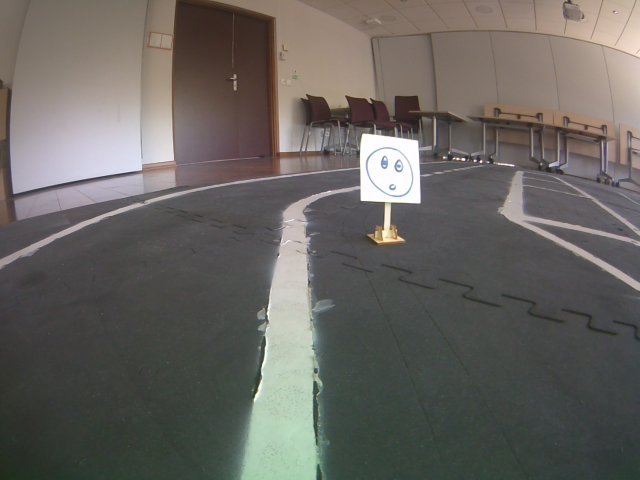Smiley: (357, 131, 422, 205)
